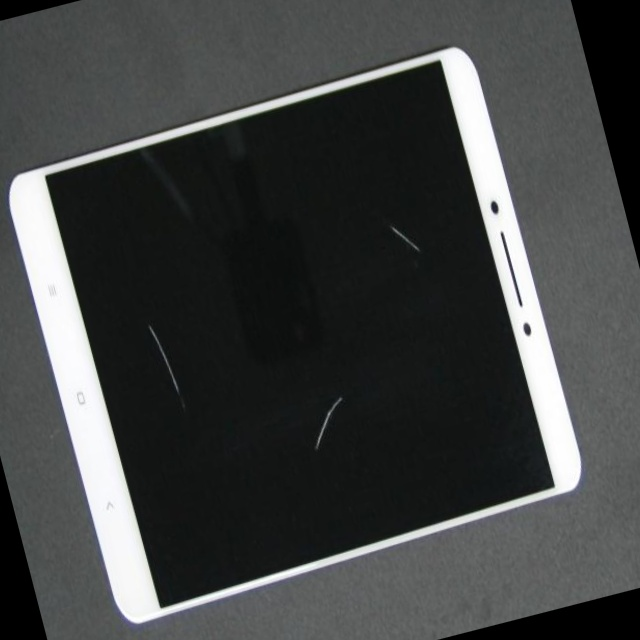scratch: (111, 3, 639, 460), (106, 186, 511, 640), (0, 60, 276, 530)
